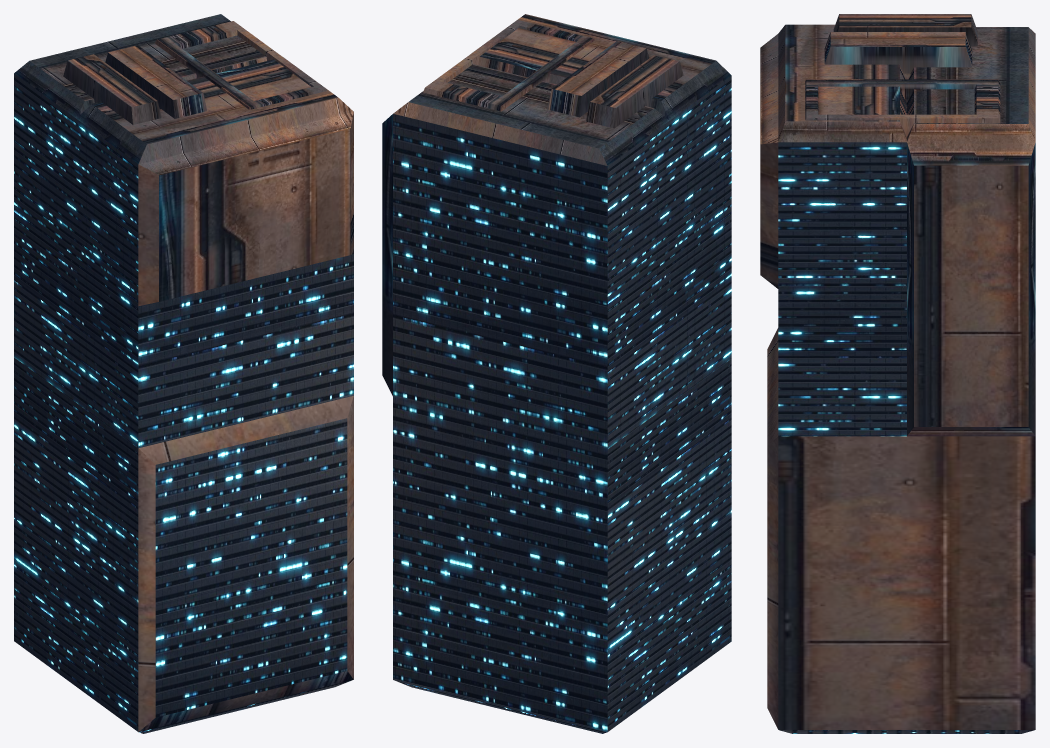
The model's file is 2026-commercial-building-2.glb.
The picture shows the model from 3 angles, left to right: view 1: azimuth 30°, elevation 25°; view 2: azimuth 150°, elevation 25°; view 3: azimuth 270°, elevation 25°; orthographic projection. The views are drawn at different scales.
Parts seen in each view (by area): view 1: 2026-commercial-building-2; view 2: 2026-commercial-building-2; view 3: 2026-commercial-building-2.
Boxes of the visible parts, left/top/right/bottom form: 2026-commercial-building-2: left=14, top=14, right=353, bottom=733; 2026-commercial-building-2: left=382, top=14, right=731, bottom=733; 2026-commercial-building-2: left=760, top=14, right=1035, bottom=733.
Size of the model in its own units: 56.2 by 142 by 56.41.
1 material, 1 textured.
